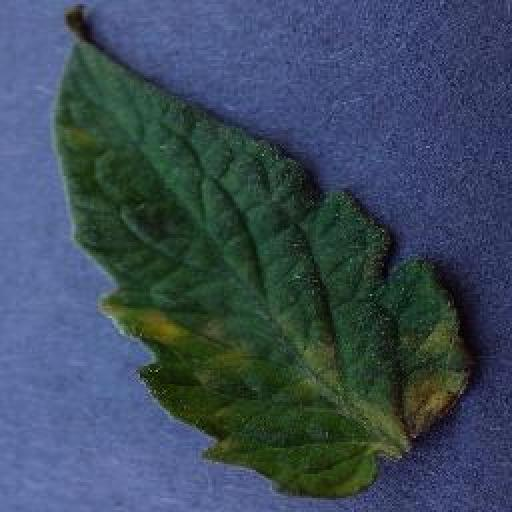disease_tomato: (52, 7, 470, 501)
